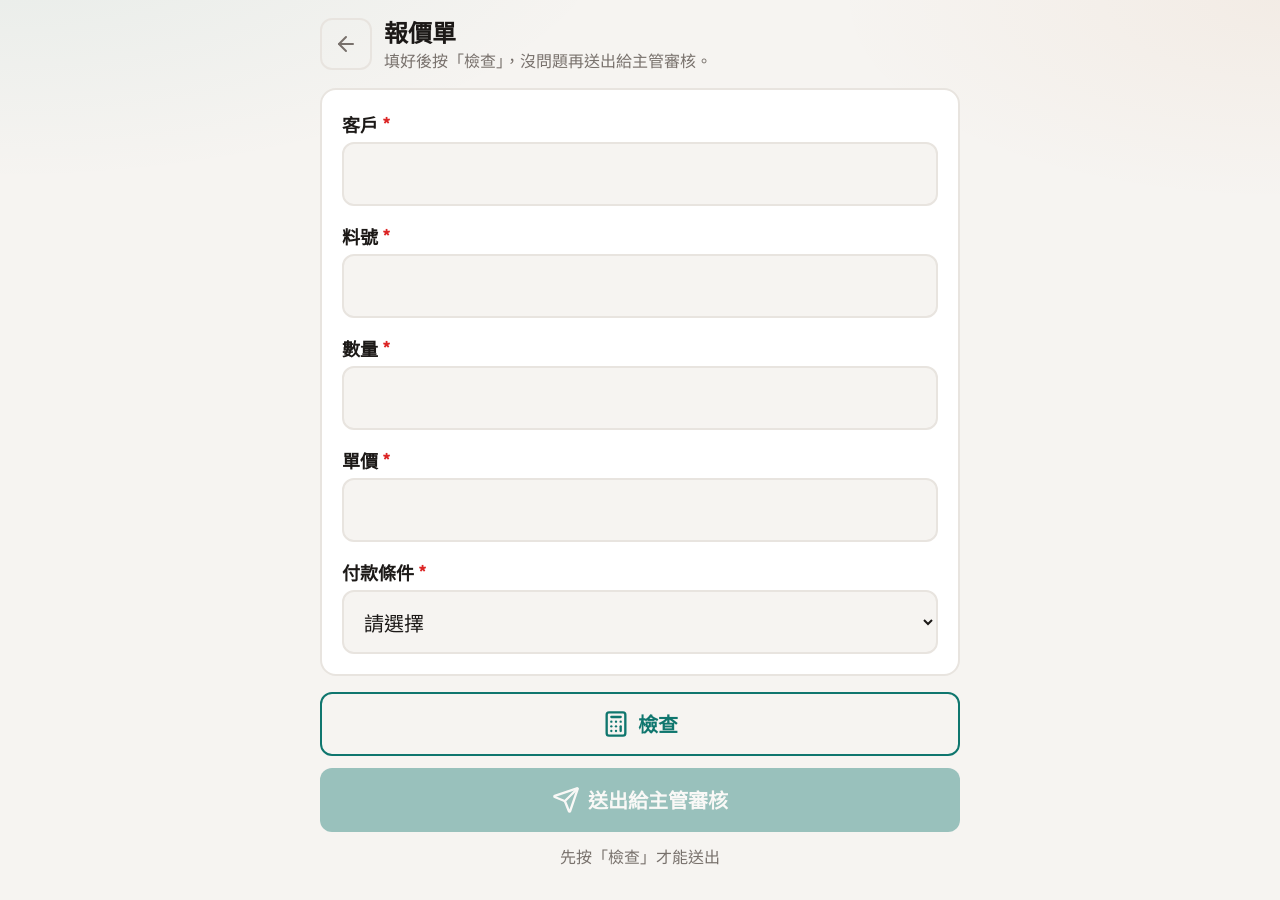
Test: FormPage › 驗證失敗時逐條列出錯誤且不可送出
Expected: the field labelled "客戶*" is shown, [342,142,938,206]
Click the button "檢查": (640, 724) [320,692,960,756]
(page scrolled)
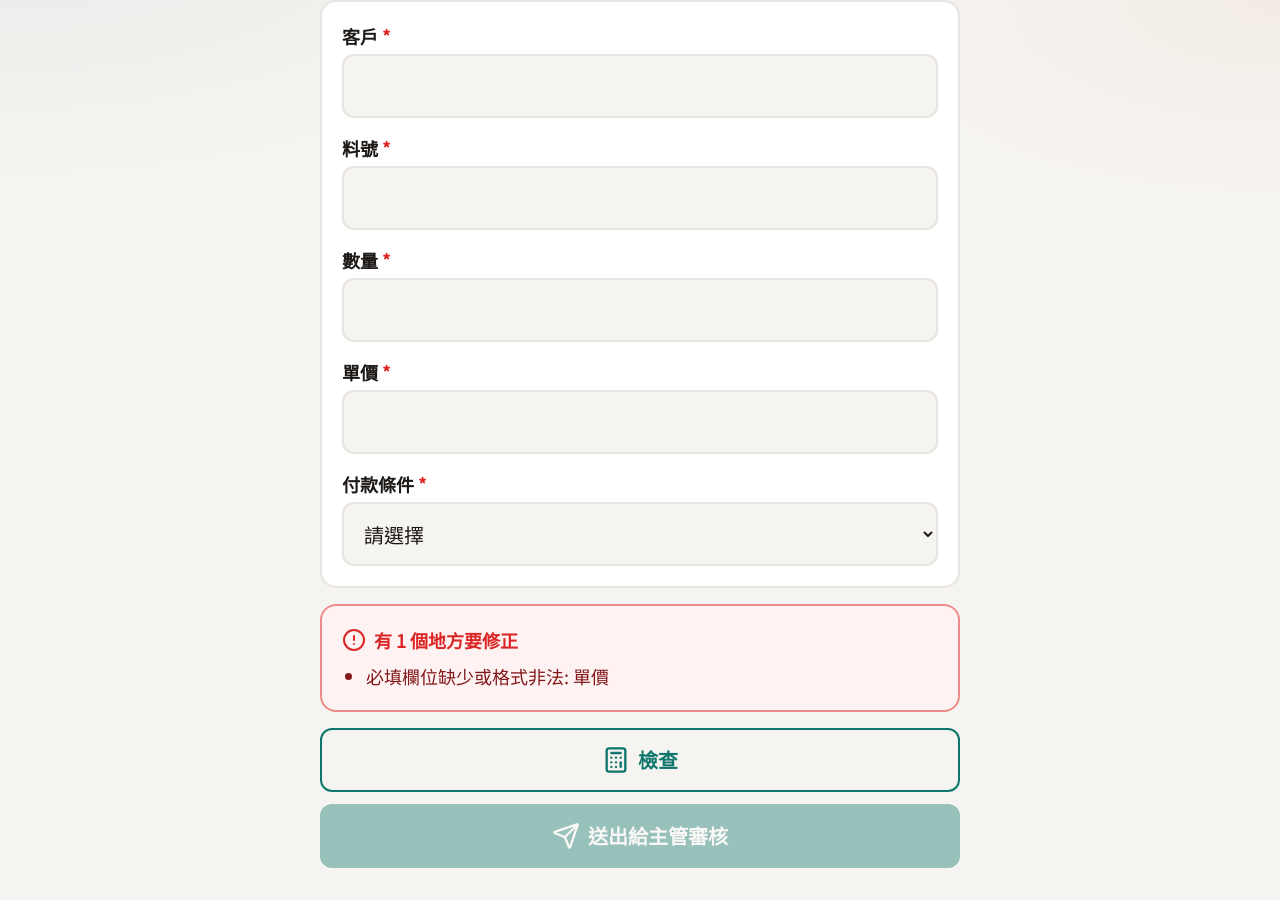
Expected: the button "送出給主管審核" is disabled, [320,804,960,868]
Expected: the list item "必填欄位缺少或格式非法: 單價" is shown, [366,663,609,689]
